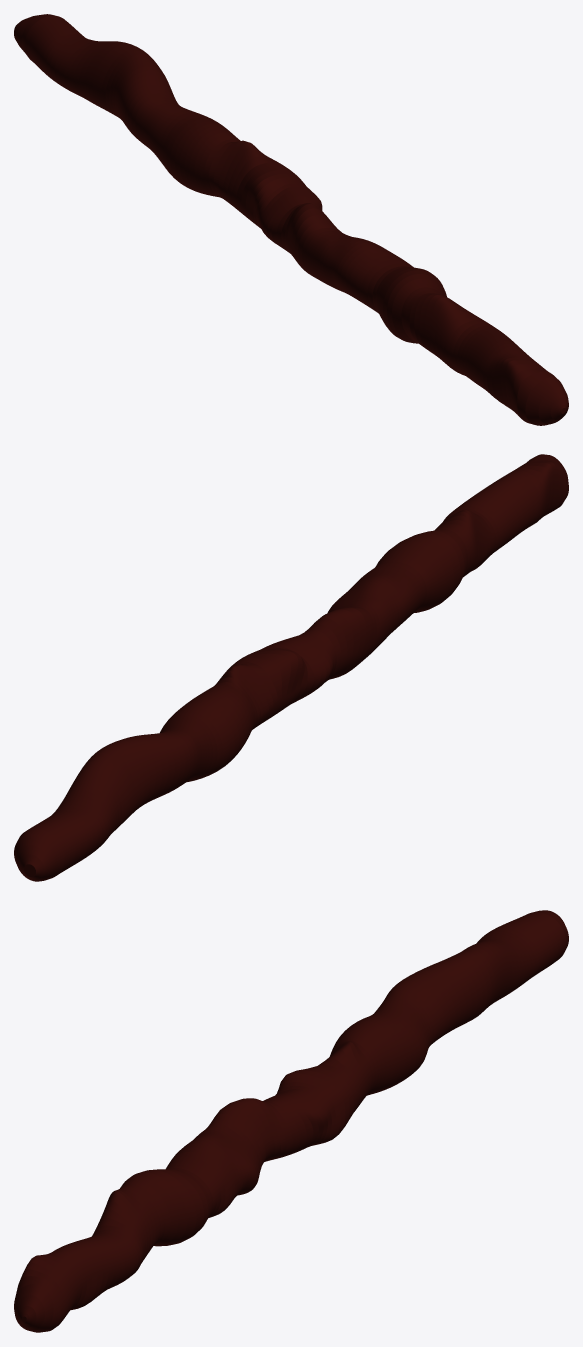
File: cave.fbx
3 views of the same model, one above another, from view 1: azimuth 30°, elevation 25°; view 2: azimuth 150°, elevation 25°; view 3: azimuth 330°, elevation 25° (orthographic). The views are drawn at different scales.
Visible parts, largest first — view 1: Cylinder; view 2: Cylinder; view 3: Cylinder.
Boxes of the visible parts, <box> form: Cylinder: <box>14,14,568,425</box>; Cylinder: <box>14,454,568,881</box>; Cylinder: <box>14,910,568,1332</box>.
Size of the model in its own units: 3.01 by 3.21 by 40.02.
